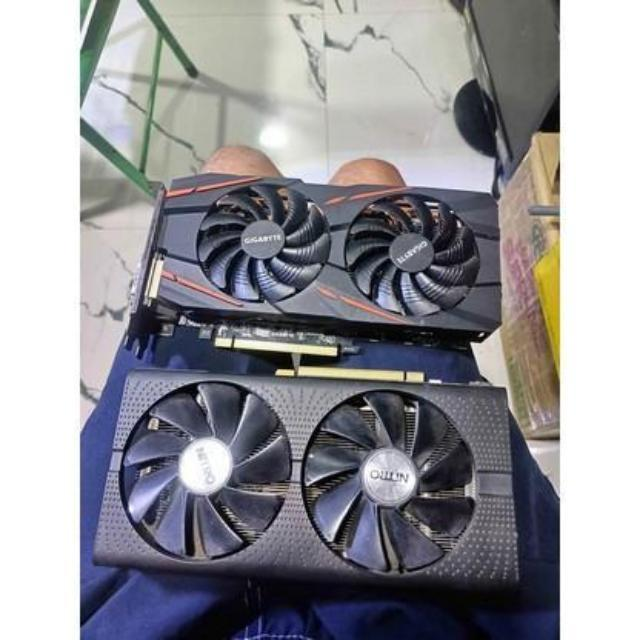GPU: (88, 366, 526, 588), (134, 167, 508, 362)
